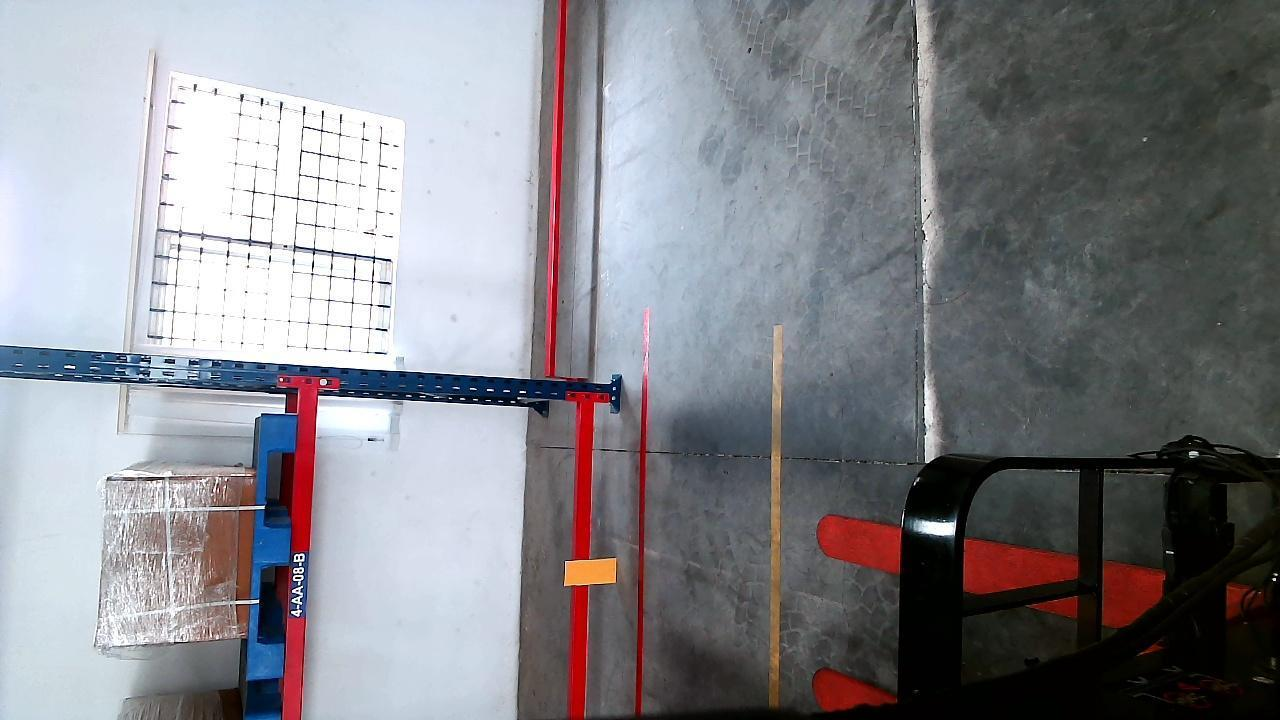h_rack: (285, 385, 321, 710), (564, 403, 599, 720)
orange_strip: (568, 557, 616, 587)
red_line: (632, 315, 653, 707)
small_pallet: (249, 410, 300, 686)
yellow_line: (766, 341, 786, 691)
